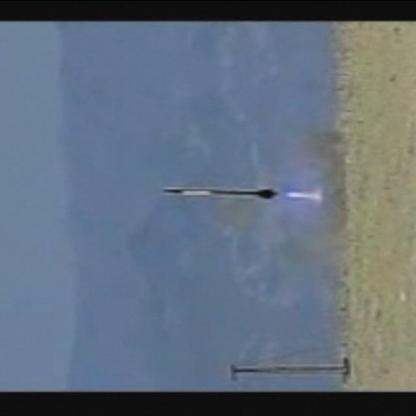MIL_TBM: (158, 185, 280, 203), (160, 185, 283, 200)
